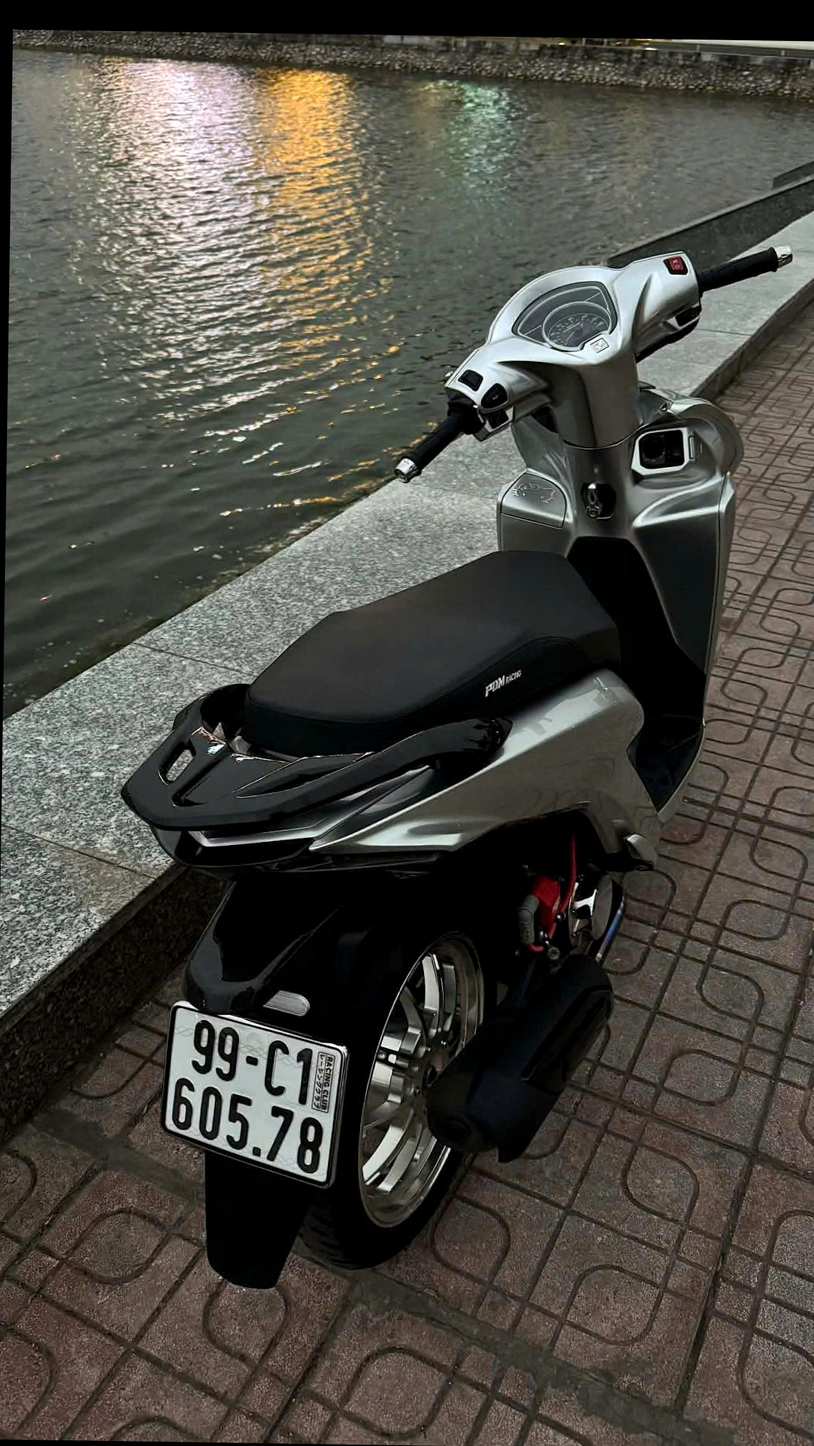Bien-so: (165, 971, 360, 1177)
